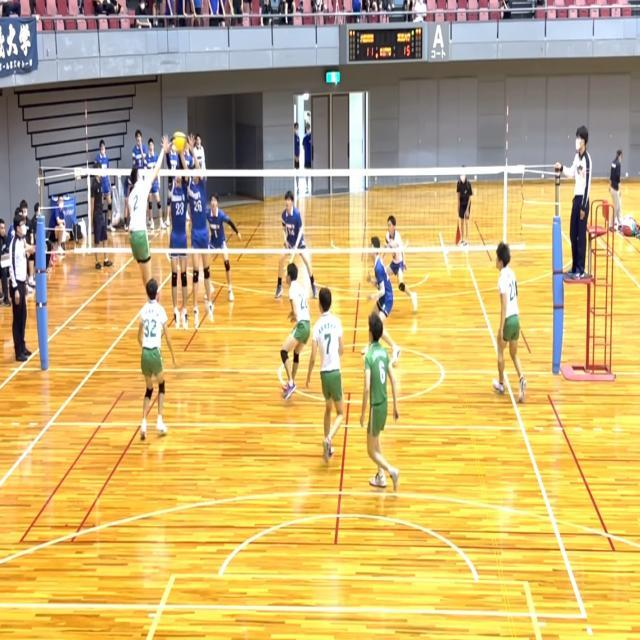spike: (125, 130, 188, 316)
